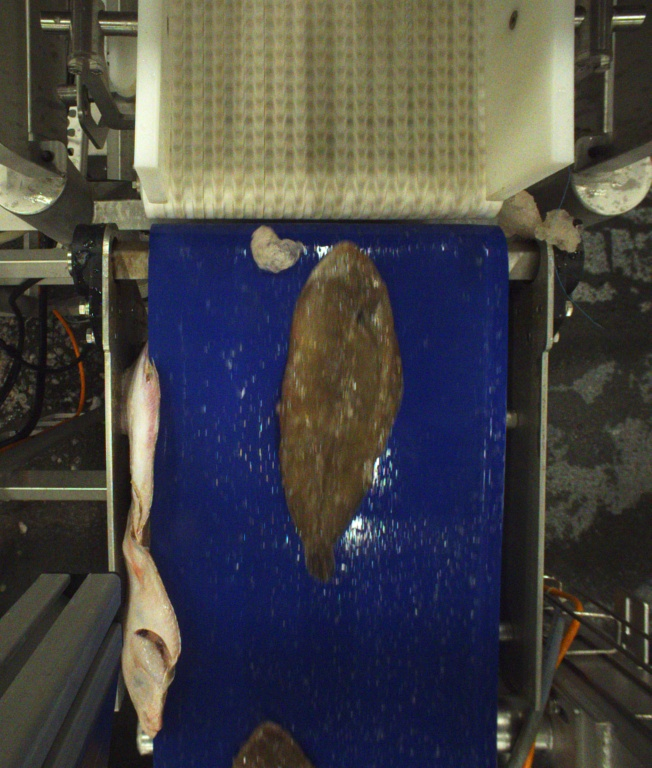SOL: (231, 722, 315, 768)
